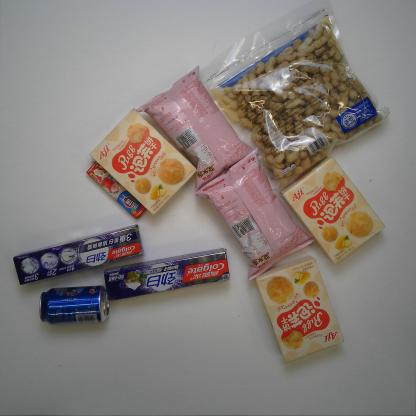Candy: (82, 160, 146, 224)
Dessert: (276, 157, 390, 266), (86, 107, 196, 218), (252, 258, 348, 367)
Dried Food: (193, 3, 393, 191)
Drink: (32, 280, 112, 328)
Personal Hygiene: (13, 223, 148, 291), (101, 246, 233, 306)
Puffed Food: (188, 150, 319, 283), (140, 63, 258, 188)
